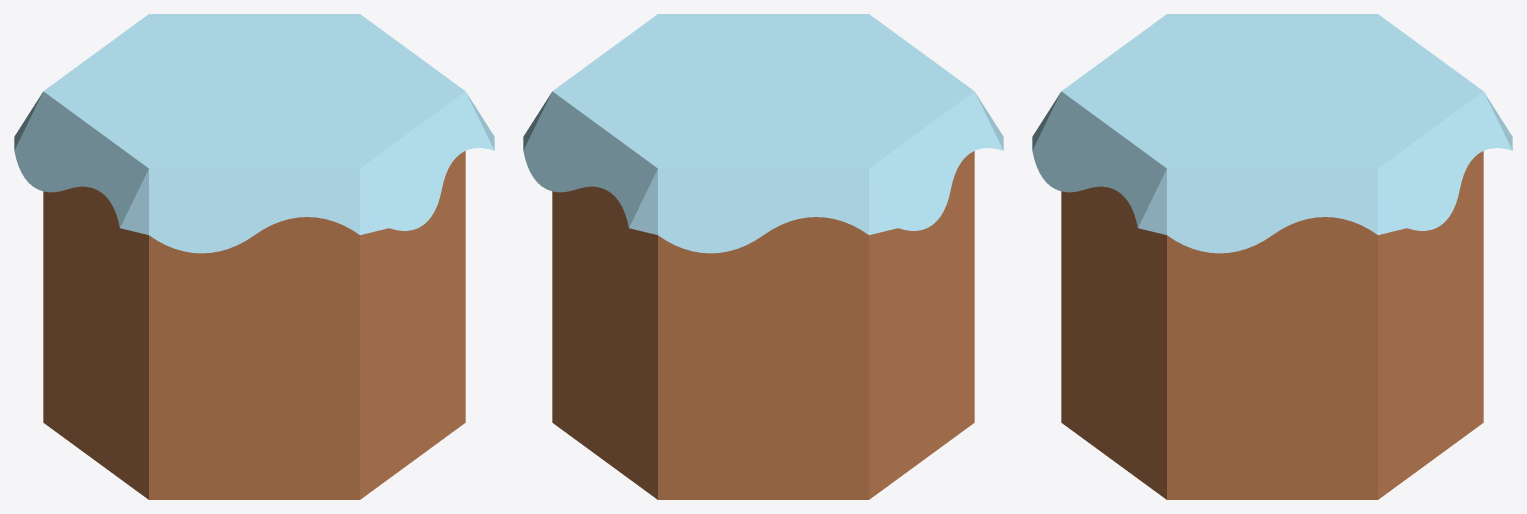
Rendered from blockSnowHexagon.dae.
3 views of the same model, side by side, from view 1: azimuth 30°, elevation 25°; view 2: azimuth 150°, elevation 25°; view 3: azimuth 270°, elevation 25° (orthographic).
Parts seen in each view (by area): view 1: blockSnowHexagon; view 2: blockSnowHexagon; view 3: blockSnowHexagon.
Part boxes in pixels (x1,y1,x2,y2): blockSnowHexagon: (14,14,494,499); blockSnowHexagon: (523,14,1003,499); blockSnowHexagon: (1032,14,1512,499).
Bounding box in the file's own units: 1.23 × 1 × 1.31.
